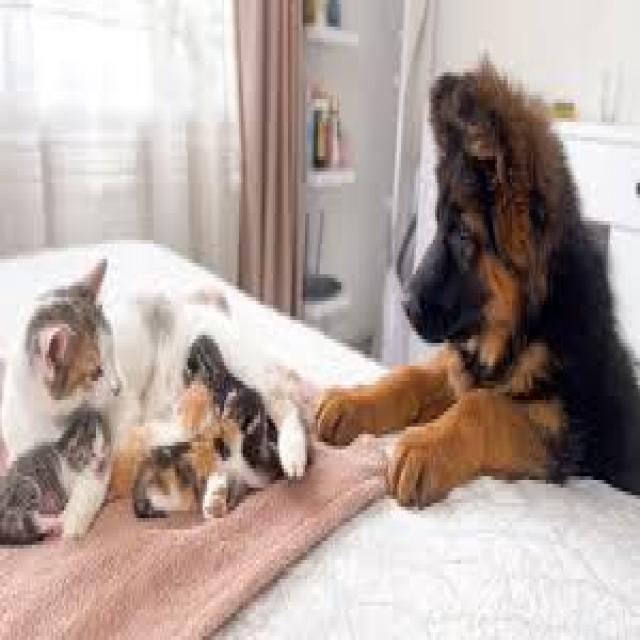Cat: (3, 245, 142, 411), (0, 388, 117, 544)
Dog: (317, 56, 640, 516)
